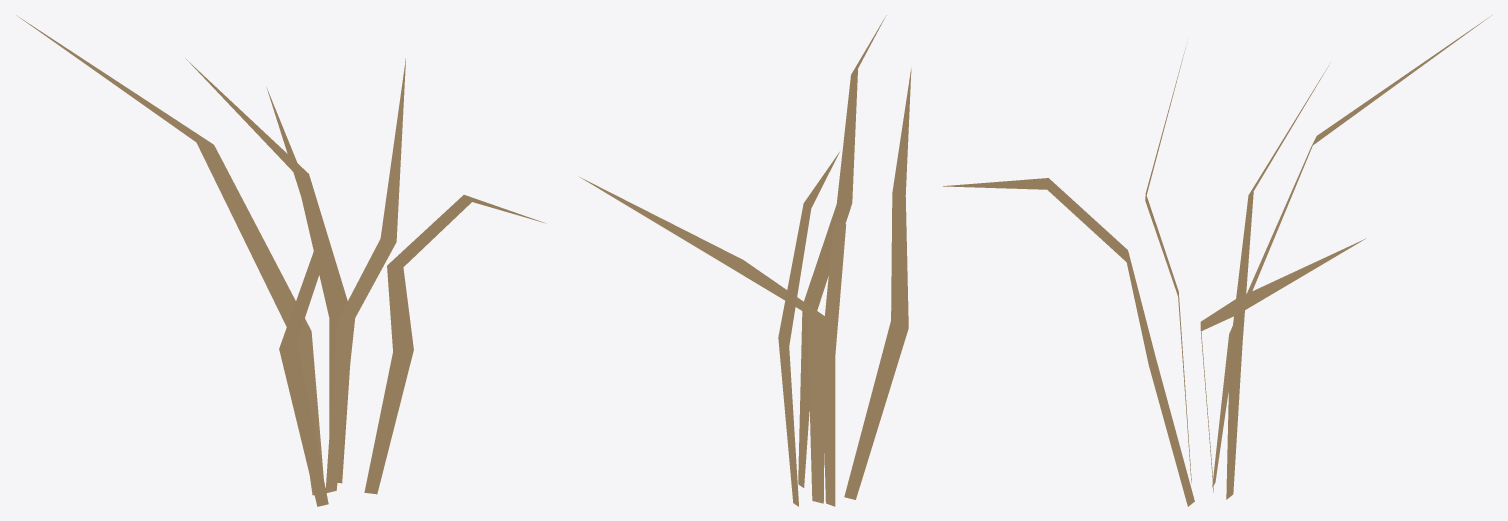
The model's file is Grass_f_TwoS_01.fbx.
The picture shows the model from 3 angles, left to right: view 1: azimuth 30°, elevation 25°; view 2: azimuth 150°, elevation 25°; view 3: azimuth 270°, elevation 25°; orthographic projection. The views are drawn at different scales.
Parts seen in each view (by area): view 1: Grass_f_TwoS_01; view 2: Grass_f_TwoS_01; view 3: Grass_f_TwoS_01.
Boxes of the visible parts, <box> form: Grass_f_TwoS_01: <box>16,15,546,506</box>; Grass_f_TwoS_01: <box>580,15,911,506</box>; Grass_f_TwoS_01: <box>943,15,1491,506</box>.
Bounding box in the file's own units: 0.3312 × 0.4225 × 0.5071.
